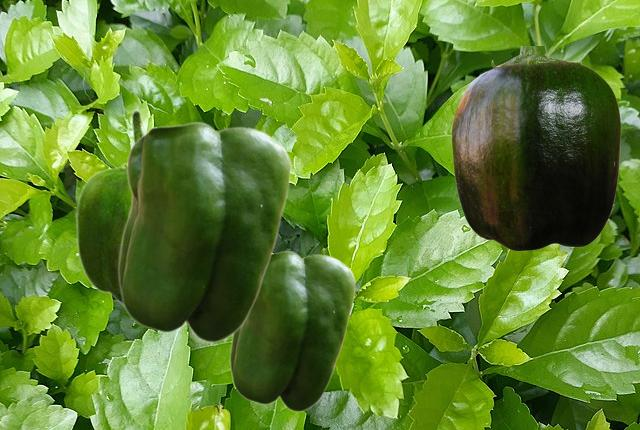bell_pepper: (117, 121, 291, 342), (451, 46, 620, 250), (229, 250, 355, 411), (75, 109, 147, 305)
